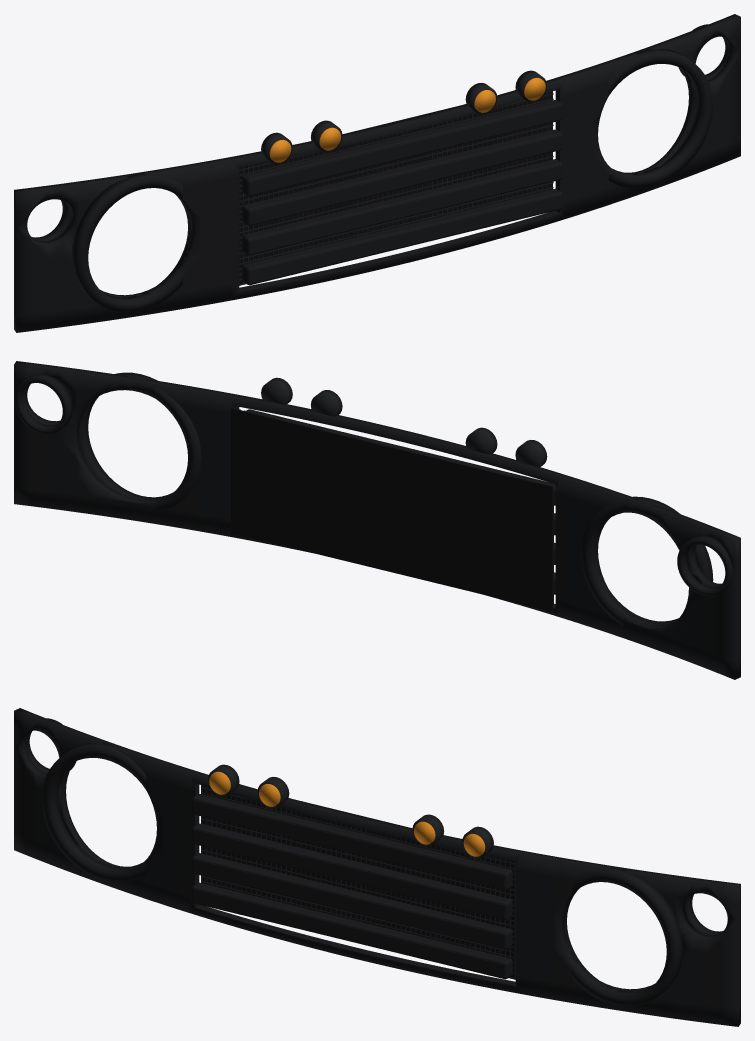
The model's file is grille_apio_marker.glb.
3 views of the same model, one above another, from view 1: azimuth 30°, elevation 25°; view 2: azimuth 150°, elevation 25°; view 3: azimuth 330°, elevation 25° (orthographic).
Parts seen in each view (by area): view 1: panel.022, slat2.014, slat0.015, slat3.014, slat1.014, backing.016, bezel0.016, bezel1.017, mh085821.008, mh085810.009, mh085816.009, mh08585.009 (+1 smaller); view 2: backing.016, panel.022, bezel1.017, bezel0.016, sigBezel1.013, sigBezel0.013, slat3.014, marker1.002, marker0.001, marker2.001, marker3.001; view 3: panel.022, slat2.014, slat0.015, slat3.014, slat1.014, backing.016, bezel1.017, bezel0.016, mh085821.008, mh085816.009, mh08584.009, mh085810.009 (+1 smaller).
Part boxes in pixels (<box>): panel.022: <box>14,14,740,332</box>; slat2.014: <box>242,129,562,225</box>; slat0.015: <box>242,188,562,285</box>; slat3.014: <box>242,100,562,196</box>; slat1.014: <box>242,159,562,255</box>; backing.016: <box>239,91,552,284</box>; bezel0.016: <box>72,173,190,312</box>; bezel1.017: <box>608,49,713,188</box>; mh085821.008: <box>239,98,553,176</box>; mh085810.009: <box>239,156,553,233</box>; mh085816.009: <box>239,124,553,202</box>; mh08585.009: <box>239,182,553,259</box>; backing.016: <box>231,408,552,611</box>; panel.022: <box>14,361,740,679</box>; bezel1.017: <box>78,372,201,511</box>; bezel0.016: <box>580,496,713,625</box>; sigBezel1.013: <box>14,374,72,434</box>; sigBezel0.013: <box>677,535,732,596</box>; slat3.014: <box>246,409,555,505</box>; marker1.002: <box>261,377,292,404</box>; marker0.001: <box>515,440,547,466</box>; marker2.001: <box>465,427,497,454</box>; marker3.001: <box>311,390,342,416</box>; panel.022: <box>14,708,740,1026</box>; slat2.014: <box>192,823,512,919</box>; slat0.015: <box>192,882,512,979</box>; slat3.014: <box>192,794,512,890</box>; slat1.014: <box>192,853,512,949</box>; backing.016: <box>202,785,514,977</box>; bezel1.017: <box>564,867,682,1006</box>; bezel0.016: <box>41,743,146,882</box>; mh085821.008: <box>201,792,515,869</box>; mh085816.009: <box>201,818,515,895</box>; mh08584.009: <box>201,881,515,958</box>; mh085810.009: <box>201,850,515,927</box>.
Size of the model in its own units: 1.31 by 0.2745 by 0.1117.
